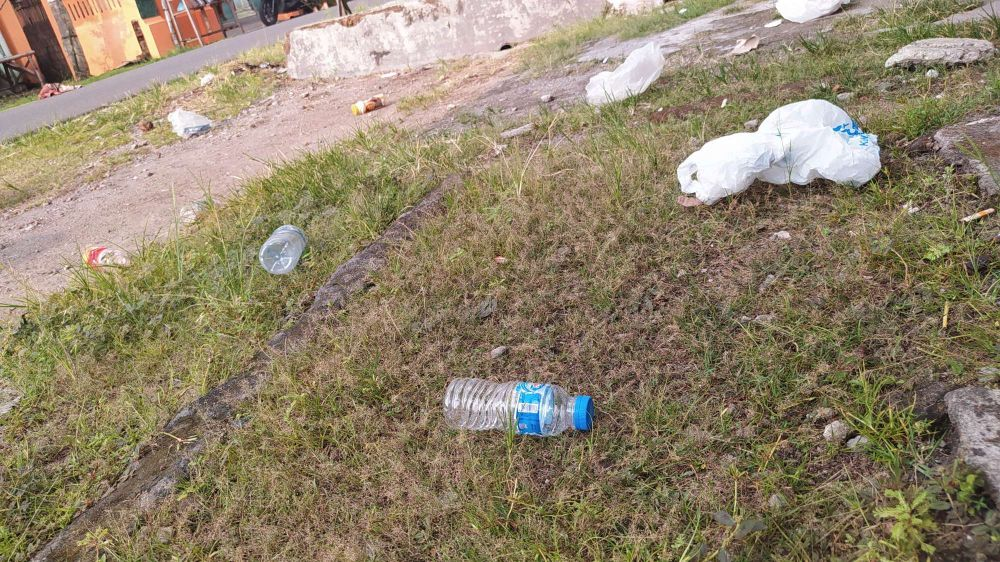botol: (435, 367, 600, 449), (252, 214, 313, 275), (77, 233, 138, 280), (346, 92, 393, 118), (180, 189, 212, 224)
plastik: (682, 82, 898, 216), (582, 40, 666, 111), (760, 2, 853, 35), (163, 104, 214, 140)
